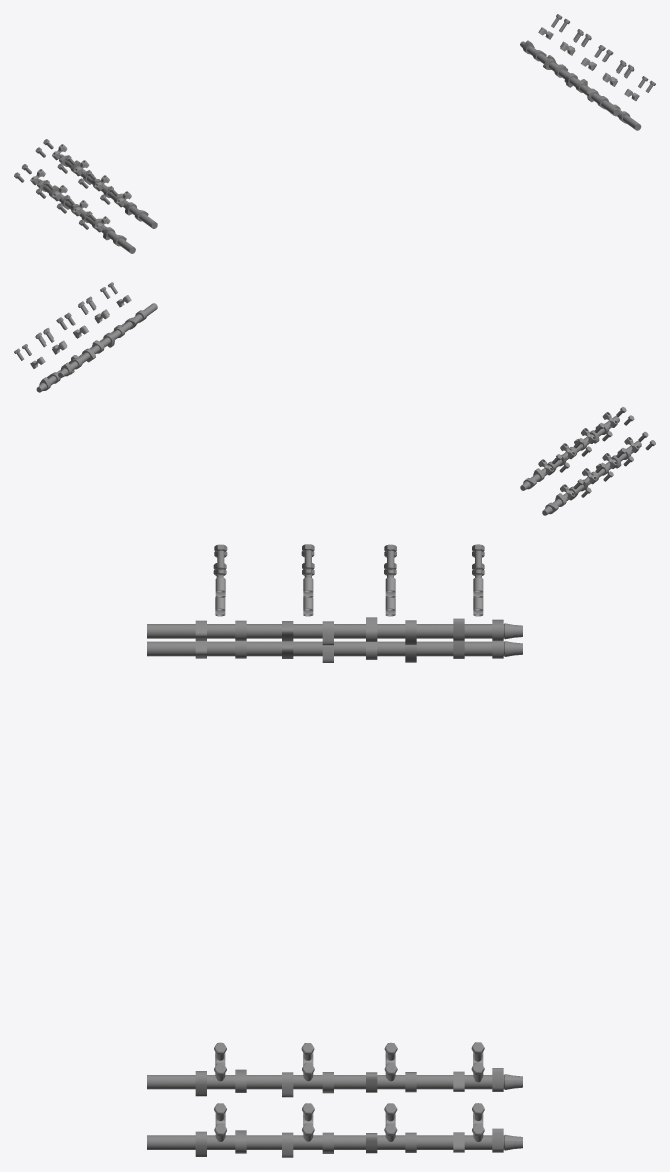
The model's file is cams.glb.
The picture shows the model from 3 angles, top to bottom: view 1: azimuth 30°, elevation 25°; view 2: azimuth 150°, elevation 25°; view 3: azimuth 270°, elevation 25°; orthographic projection. The views are drawn at different scales.
Parts seen in each view (by area): view 1: v8_coyote_walek_rozrzadu(1), v8_coyote_walek_rozrzadu(3), v8_coyote_walek_rozrzadu(0), v8_coyote_walek_rozrzadu(2); view 2: v8_coyote_walek_rozrzadu(1), v8_coyote_walek_rozrzadu(3), v8_coyote_walek_rozrzadu(0), v8_coyote_walek_rozrzadu(2); view 3: v8_coyote_walek_rozrzadu(0), v8_coyote_walek_rozrzadu(2), v8_coyote_walek_rozrzadu(1), v8_coyote_walek_rozrzadu(3).
Part boxes in pixels (left/top/right/bottom): v8_coyote_walek_rozrzadu(1): left=520, top=40, right=619, bottom=116; v8_coyote_walek_rozrzadu(3): left=37, top=179, right=135, bottom=253; v8_coyote_walek_rozrzadu(0): left=59, top=154, right=157, bottom=228; v8_coyote_walek_rozrzadu(2): left=546, top=55, right=641, bottom=130; v8_coyote_walek_rozrzadu(1): left=58, top=303, right=157, bottom=377; v8_coyote_walek_rozrzadu(3): left=542, top=441, right=641, bottom=515; v8_coyote_walek_rozrzadu(0): left=520, top=416, right=619, bottom=490; v8_coyote_walek_rozrzadu(2): left=36, top=317, right=132, bottom=392; v8_coyote_walek_rozrzadu(0): left=147, top=617, right=522, bottom=645; v8_coyote_walek_rozrzadu(2): left=147, top=1128, right=522, bottom=1157; v8_coyote_walek_rozrzadu(1): left=147, top=1068, right=522, bottom=1097; v8_coyote_walek_rozrzadu(3): left=147, top=641, right=522, bottom=662.
Size of the model in its own units: 0.0335 by 0.00323 by 0.00946.
2 materials, 1 textured.
